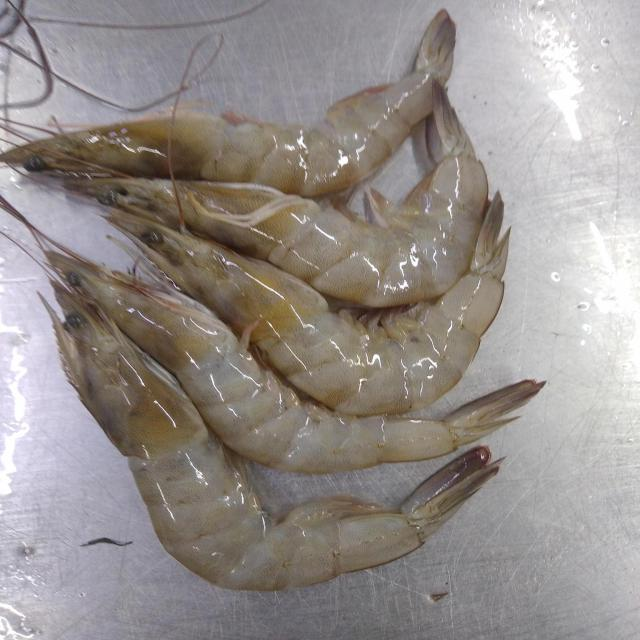shrimp: (49, 282, 501, 592), (50, 255, 544, 474), (1, 9, 456, 197), (107, 211, 507, 416), (65, 137, 488, 308)
